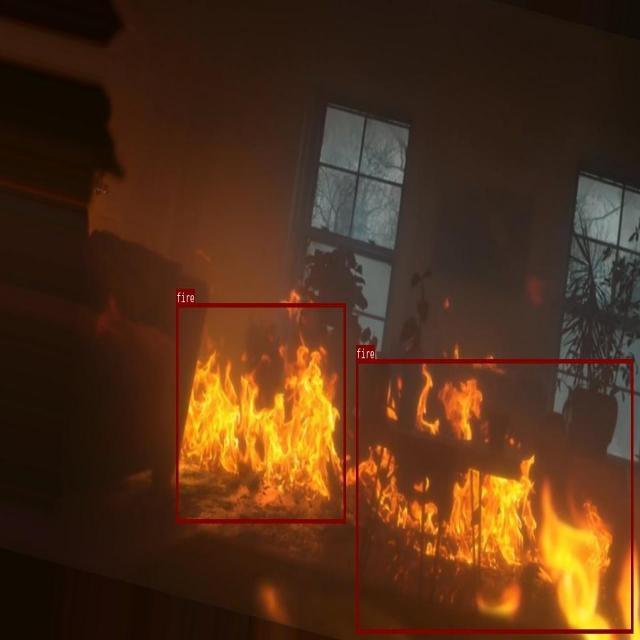fire: (355, 359, 633, 632), (176, 303, 345, 523)
